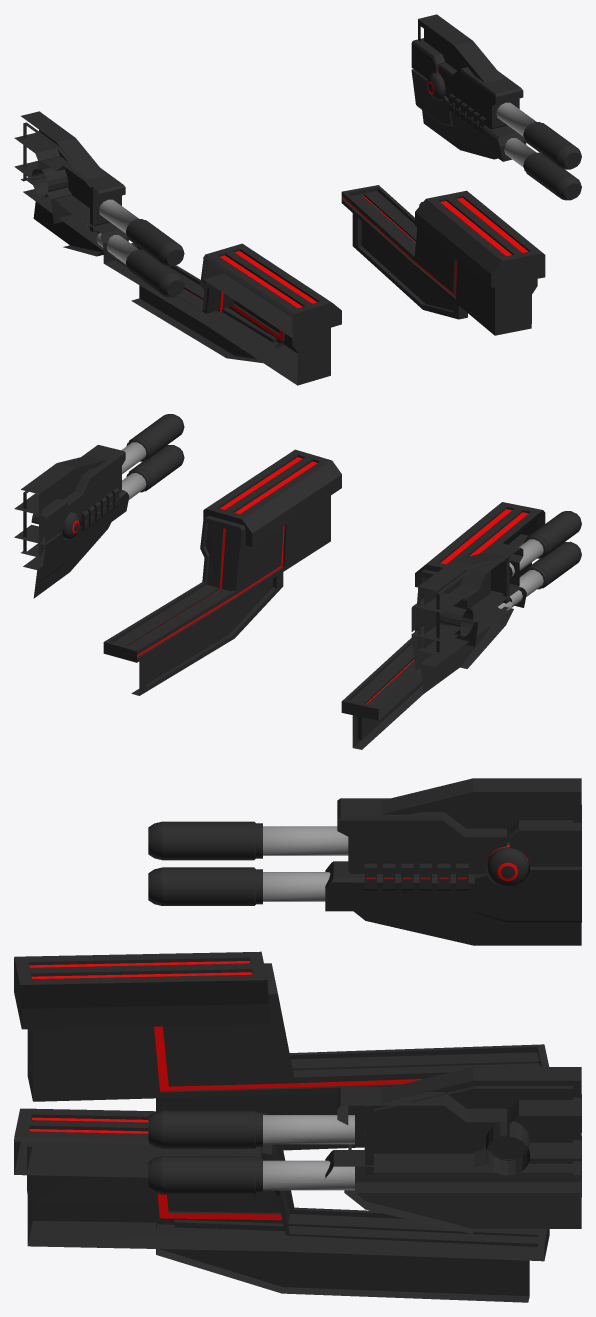
Rendered from Player_Turret.FBX.
3 renders of one model, top to bottom at view 1: azimuth 30°, elevation 25°; view 2: azimuth 150°, elevation 25°; view 3: azimuth 270°, elevation 25°, orthographic. The views are drawn at different scales.
Parts seen in each view (by area): view 1: Player_Turret; view 2: Player_Turret; view 3: Player_Turret.
Boxes of the visible parts, <box> form: Player_Turret: <box>14,14,581,385</box>; Player_Turret: <box>14,414,581,749</box>; Player_Turret: <box>14,778,581,1302</box>.
Size of the model in its own units: 108 by 83.33 by 46.83.
